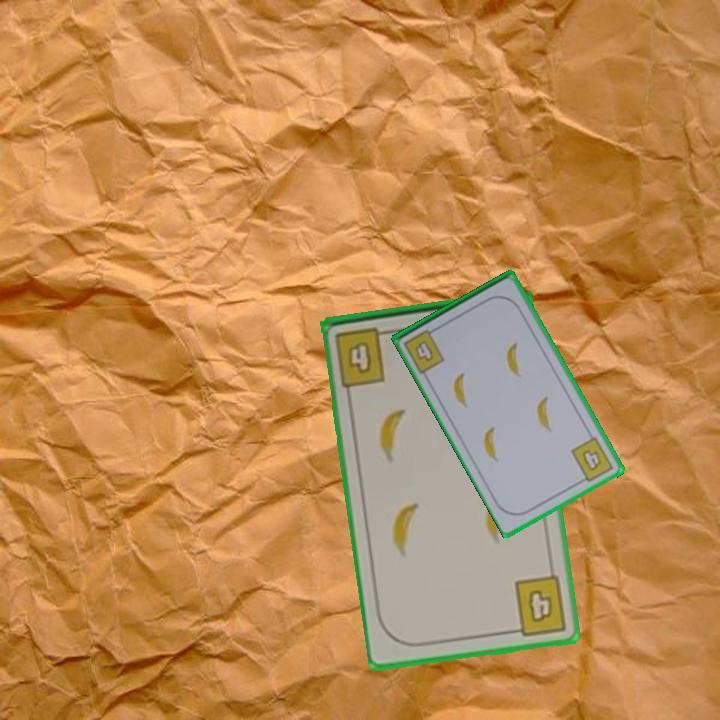4b: (331, 323, 396, 390), (506, 572, 570, 639), (567, 433, 616, 486), (400, 324, 448, 376)
